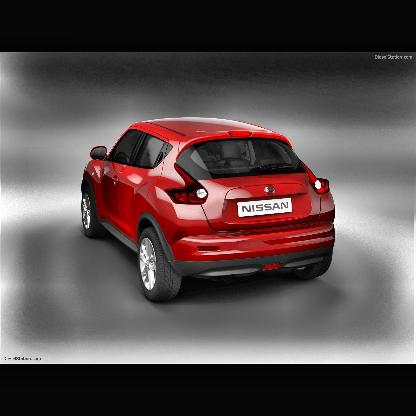Nissan Juke Hatchback 2012: (82, 118, 336, 304)
